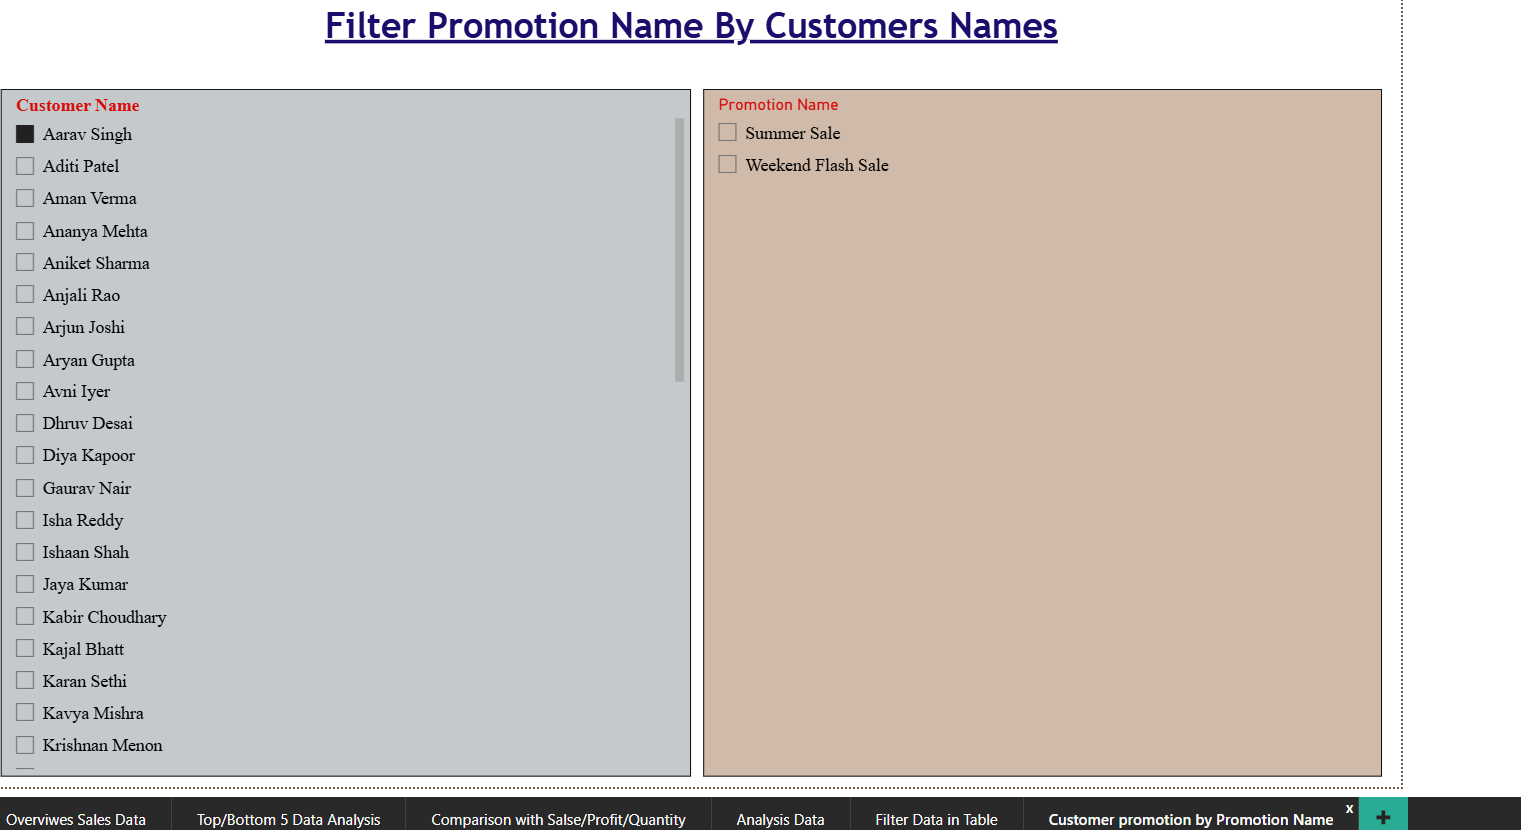

What the dashboard file says about the page in this screenshot:
{"tool":"powerbi","page":{"name":"Customer promotion by Promotion Name","canvas":[1280,720],"ordinal":5},"visuals":[{"type":"slicer","fields":{"Values":["Dim Customers.Customer Name"]},"box":[17.4,133.1,622,577.2],"z":0},{"type":"slicer","fields":{"Values":["Dim Promotion.Promotion Name"]},"box":[650.6,133.1,612,577.2],"z":1000},{"type":"textbox","box":[17.4,38.6,1245.2,52.2],"z":1001}]}

Visuals, with their boxes on the page's 1280x720 design canvas (x1, y1, x2, y2). These are canvas units, not pixel positions in the 1521x830 screenshot, which may show the page scaled, cropped or inside an application window:
slicer - Dim Customers.Customer Name: {"x1": 17, "y1": 133, "x2": 639, "y2": 710}
slicer - Dim Promotion.Promotion Name: {"x1": 651, "y1": 133, "x2": 1263, "y2": 710}
textbox: {"x1": 17, "y1": 39, "x2": 1263, "y2": 91}
